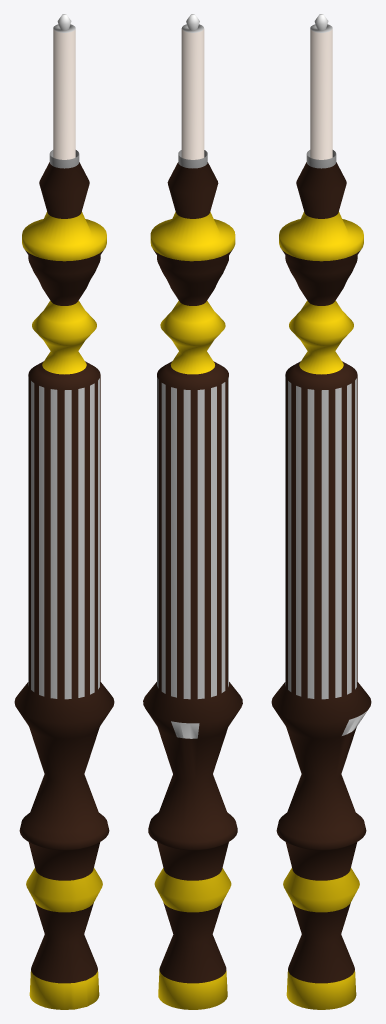
The model's file is RodTorch_Silver.gltf.
3 renders of one model, left to right at view 1: azimuth 90°, elevation 25°; view 2: azimuth 210°, elevation 25°; view 3: azimuth 270°, elevation 25°, orthographic.
Visible parts, largest first — view 1: Cylinder; view 2: Cylinder; view 3: Cylinder.
Part boxes in pixels (x1,y1,x2,y2): Cylinder: (14,14,114,1009); Cylinder: (143,14,242,1009); Cylinder: (271,14,371,1009).
Size of the model in its own units: 0.329 by 3.56 by 0.329.
